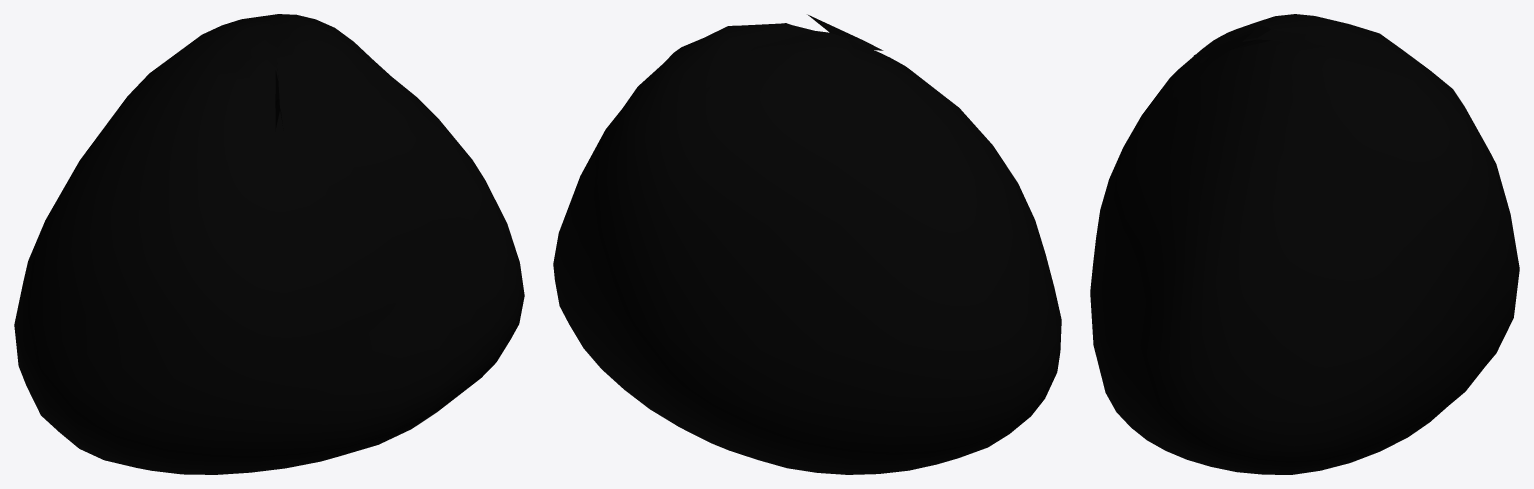
Rendered from Trashbag2.glb.
3 views of the same model, side by side, from view 1: azimuth 30°, elevation 25°; view 2: azimuth 150°, elevation 25°; view 3: azimuth 270°, elevation 25° (orthographic). The views are drawn at different scales.
Parts seen in each view (by area): view 1: Sphere; view 2: Sphere; view 3: Sphere.
Part boxes in pixels (box(x1,y1,x2,y2)): Sphere: box(14, 14, 524, 474); Sphere: box(553, 14, 1061, 474); Sphere: box(1090, 14, 1519, 474).
Bounding box in the file's own units: 2.41 × 1.95 × 1.88.
1 material, 1 textured.
